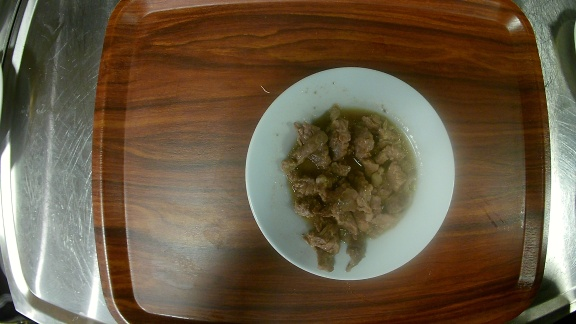etsote: (243, 65, 455, 281)
